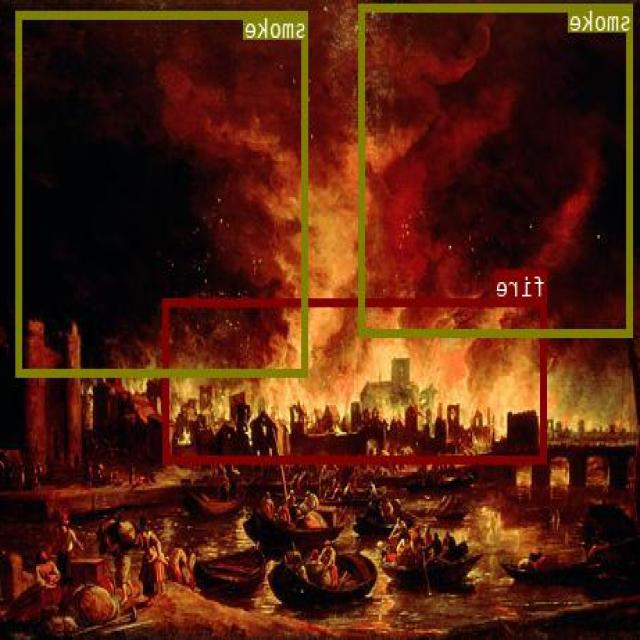fire: (165, 298, 548, 462)
smoke: (17, 11, 309, 374), (360, 2, 634, 336)
